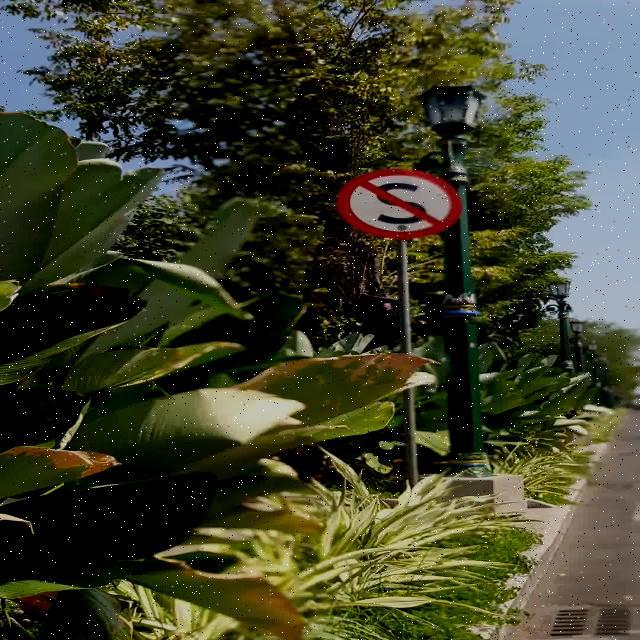Dilarang Berhenti: (337, 168, 462, 240)
